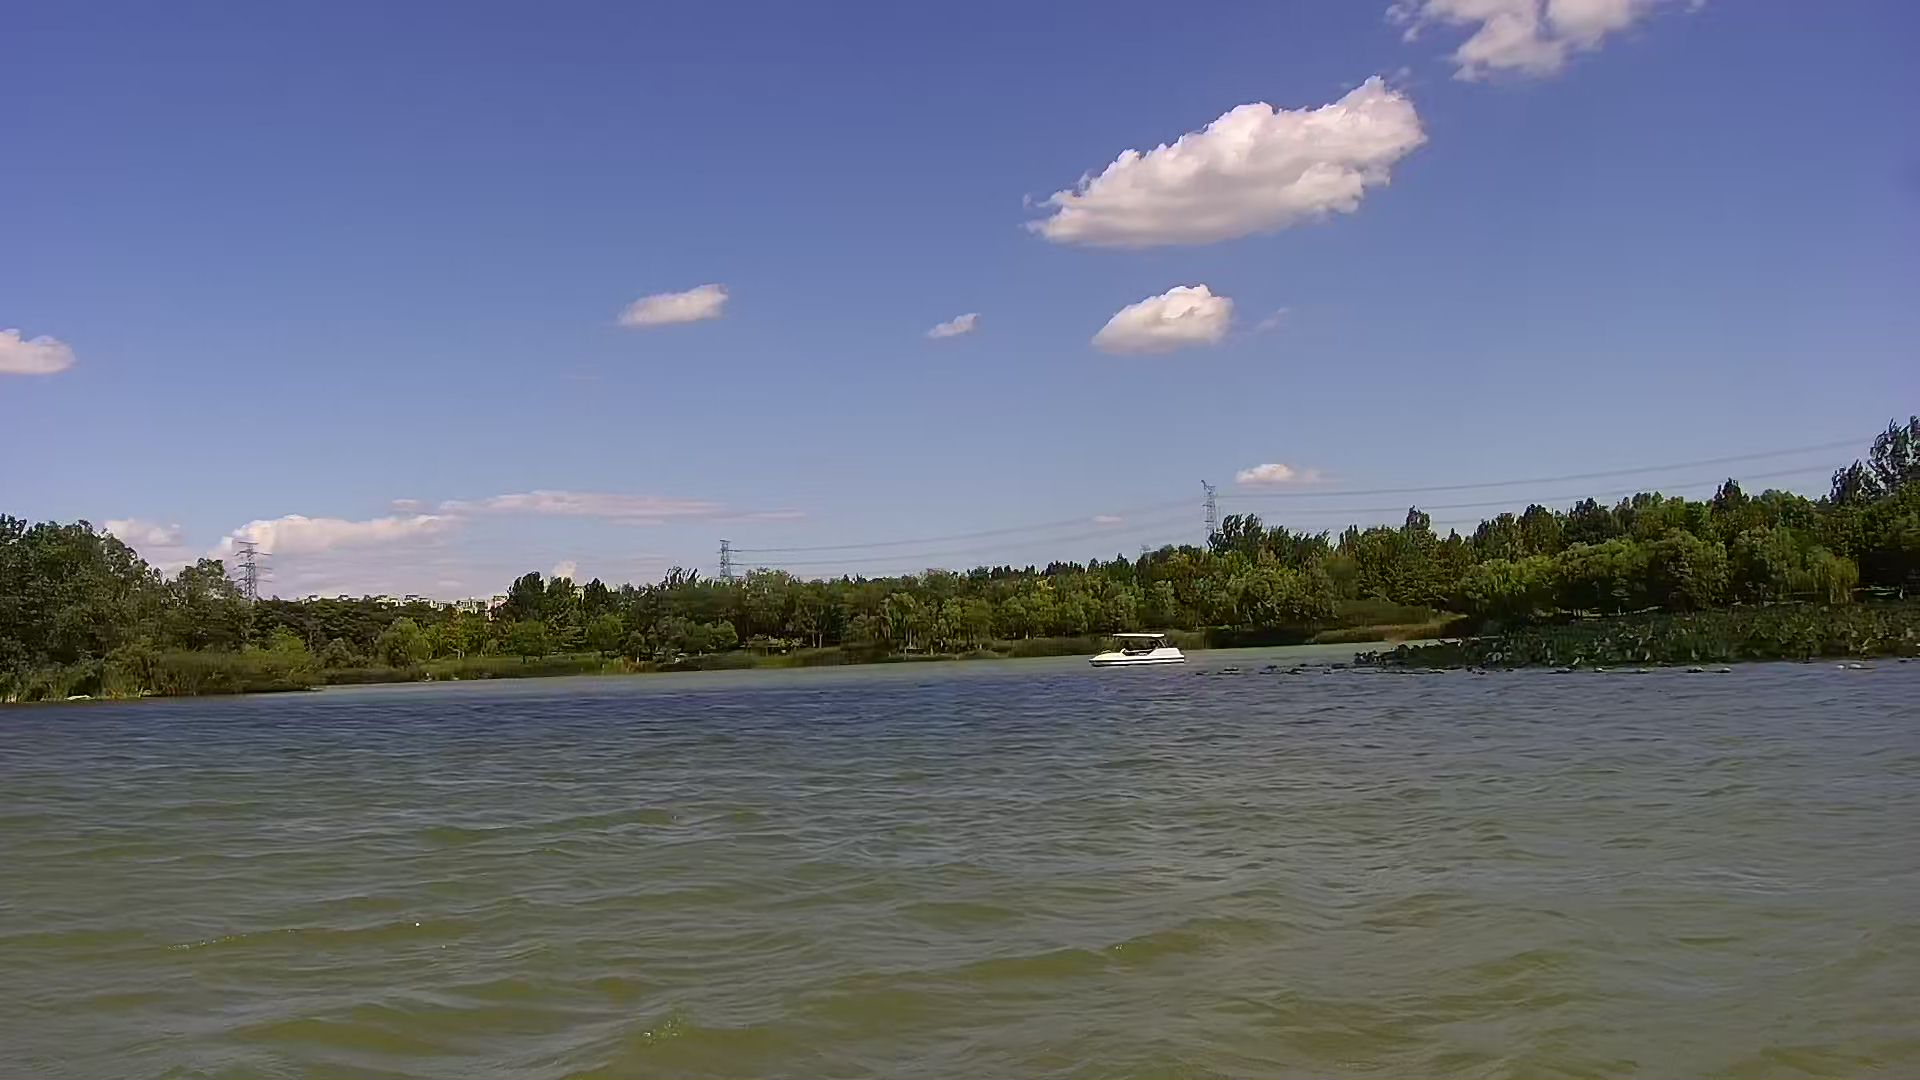boat: (1087, 621, 1185, 669)
